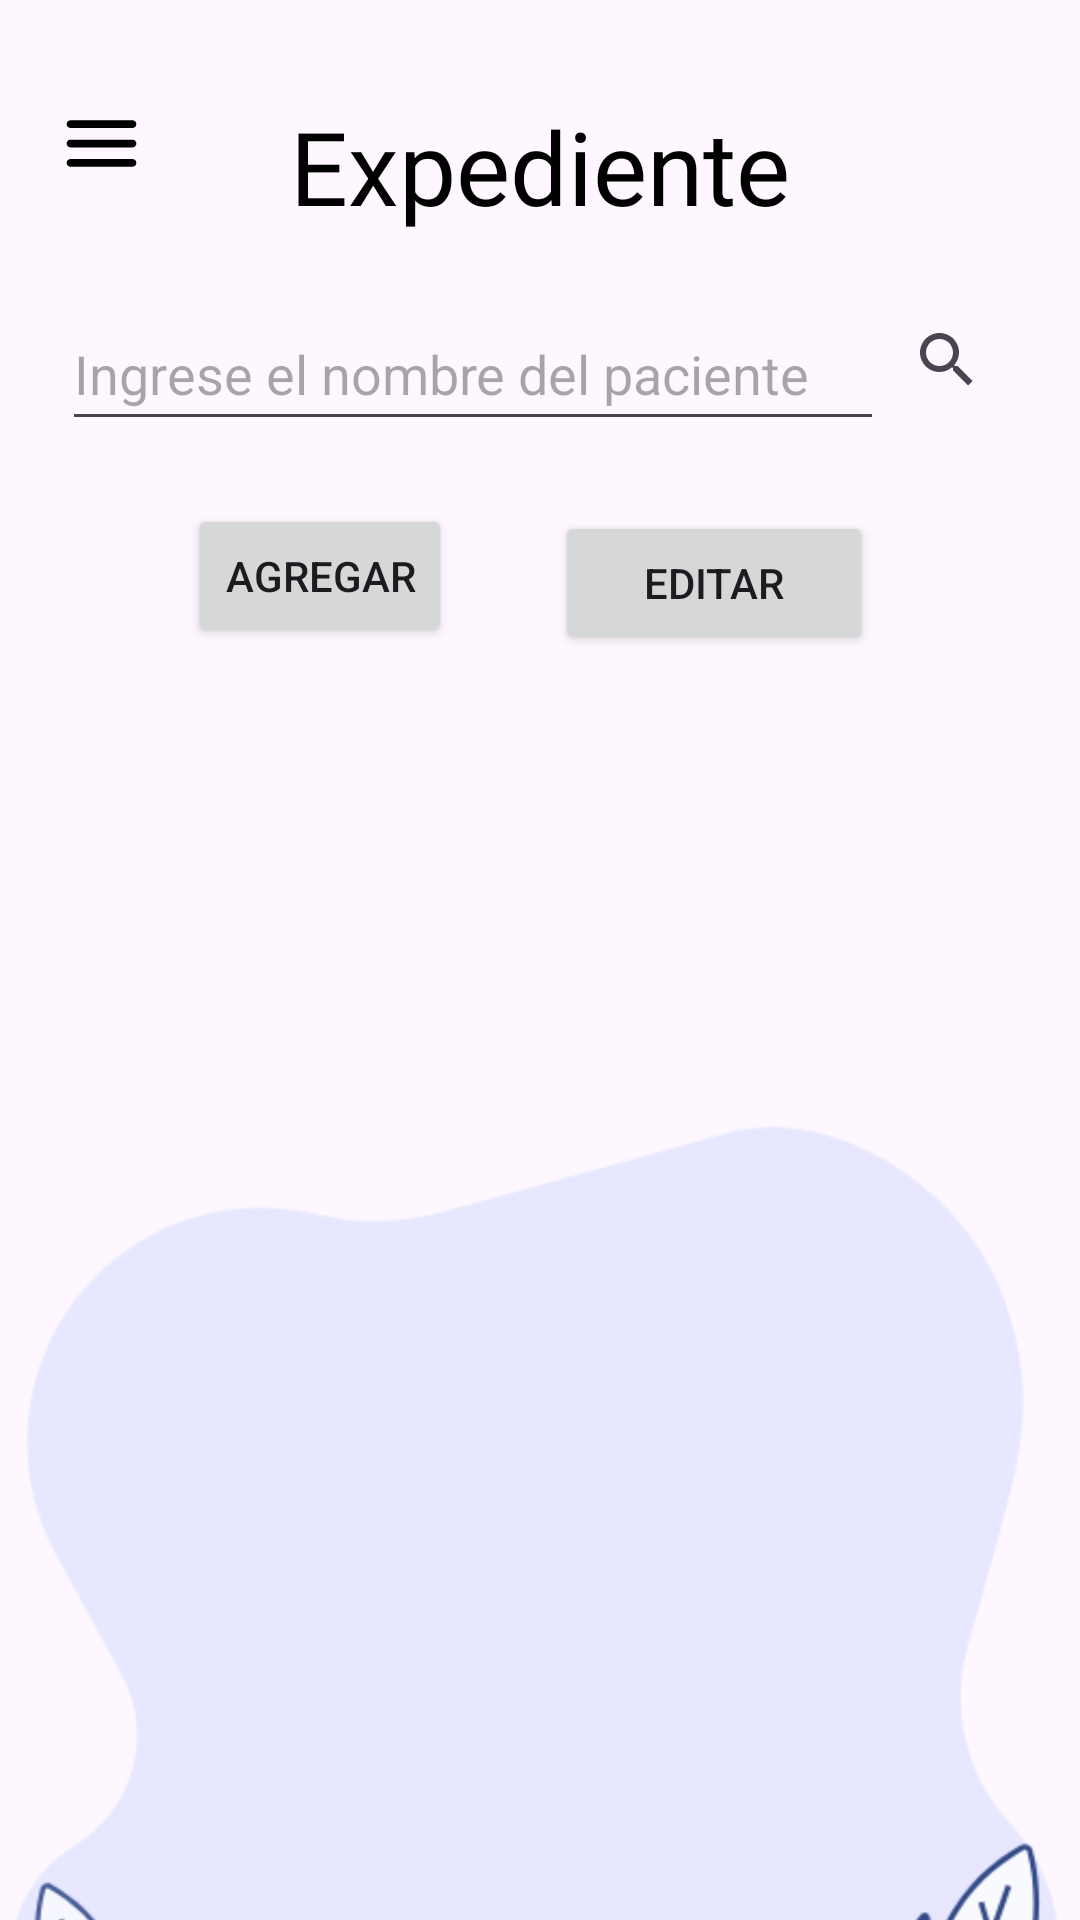

Screen size 1080*1920. Icon name, then its box in pixels as bbox=[x1, y1, x2, y2]:
menu: bbox=[66, 120, 137, 167]
